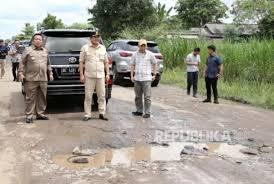Pothole: (39, 135, 262, 174)
